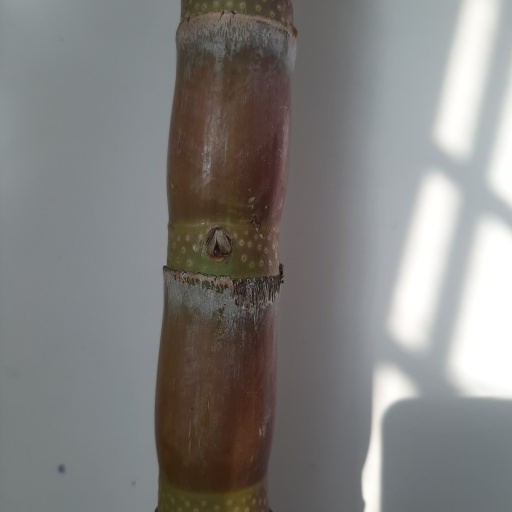Bud: (204, 227, 232, 261)
